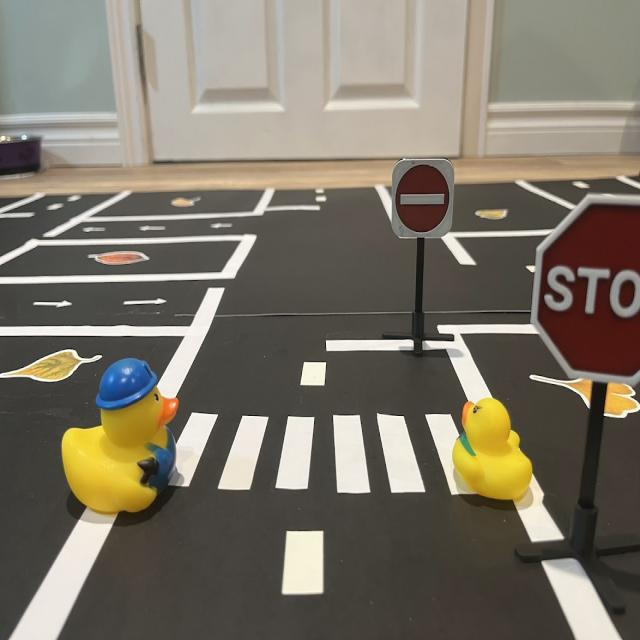duck_regular: (446, 393, 538, 507)
duck_specialty: (58, 354, 186, 519)
road_crosswalk: (158, 404, 489, 505)
road_oneway: (119, 291, 170, 311), (34, 297, 77, 310), (139, 219, 169, 237), (206, 221, 236, 236), (80, 226, 112, 237)
sign_noentry: (393, 157, 457, 245)
sign_stop: (530, 200, 640, 377)
